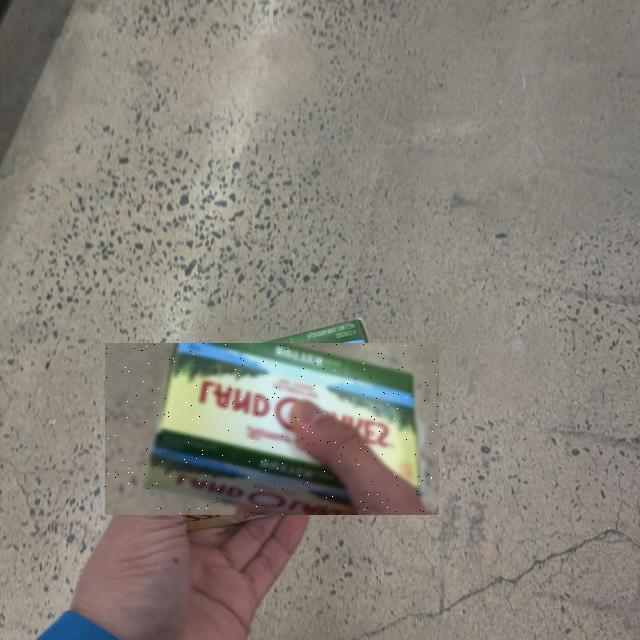Butter: (105, 343, 439, 515)
